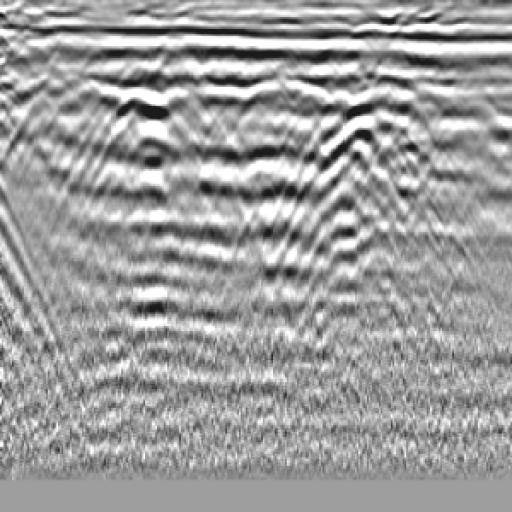metalic: (101, 65, 202, 156)
